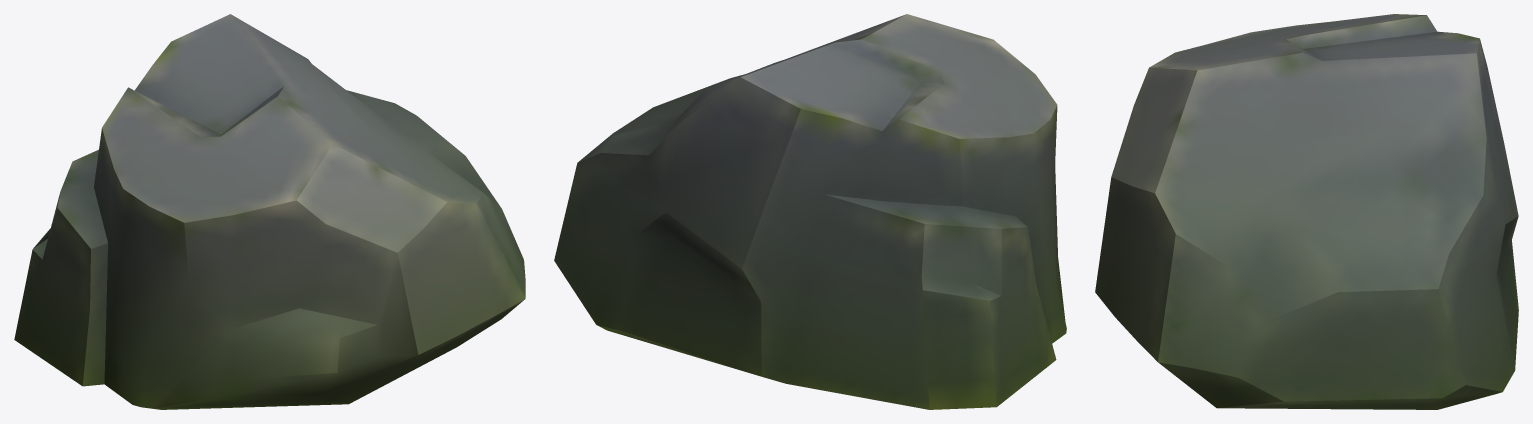
The model's file is Rock_Medium_2.glb.
3 renders of one model, left to right at view 1: azimuth 30°, elevation 25°; view 2: azimuth 150°, elevation 25°; view 3: azimuth 270°, elevation 25°, orthographic. The views are drawn at different scales.
Visible parts, largest first — view 1: Rock_Medium_2; view 2: Rock_Medium_2; view 3: Rock_Medium_2.
Part boxes in pixels (x1,y1,x2,y2): Rock_Medium_2: (14,14,525,409); Rock_Medium_2: (554,14,1066,409); Rock_Medium_2: (1095,14,1518,409).
Size of the model in its own units: 3.05 by 1.9 by 2.48.
1 material, 1 textured.
